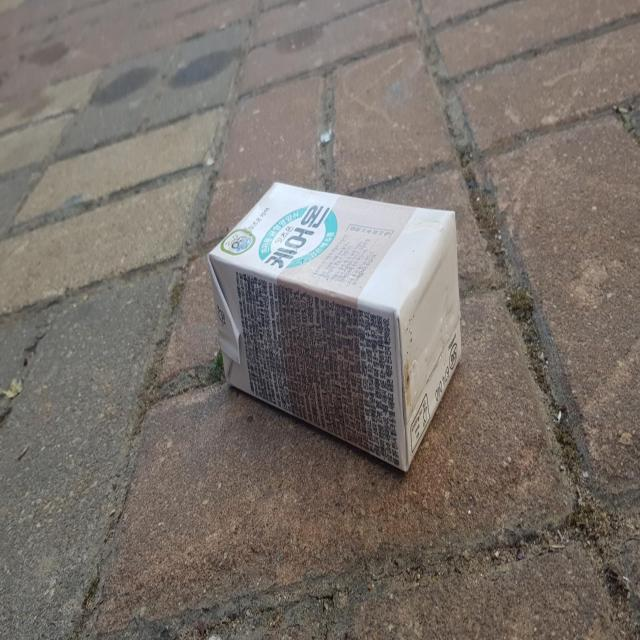paperpack: (208, 181, 462, 470)
